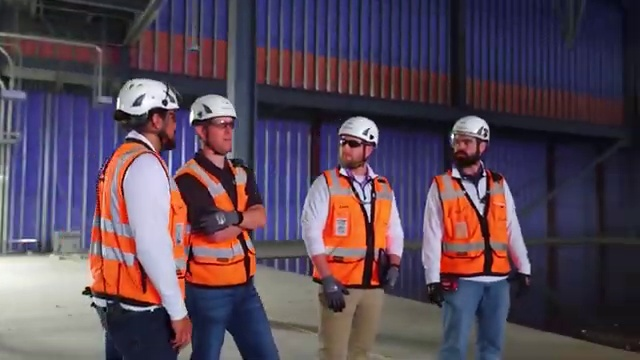helmet: (106, 72, 188, 116), (188, 93, 244, 129), (448, 114, 501, 144), (339, 114, 386, 147)
jacket: (87, 138, 184, 316), (316, 167, 404, 288), (185, 154, 254, 293), (433, 171, 513, 281)
